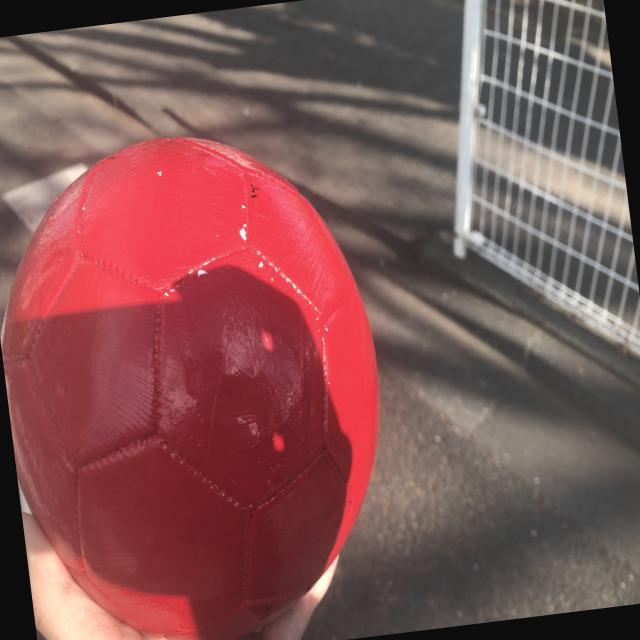red_ball: (0, 114, 409, 640)
